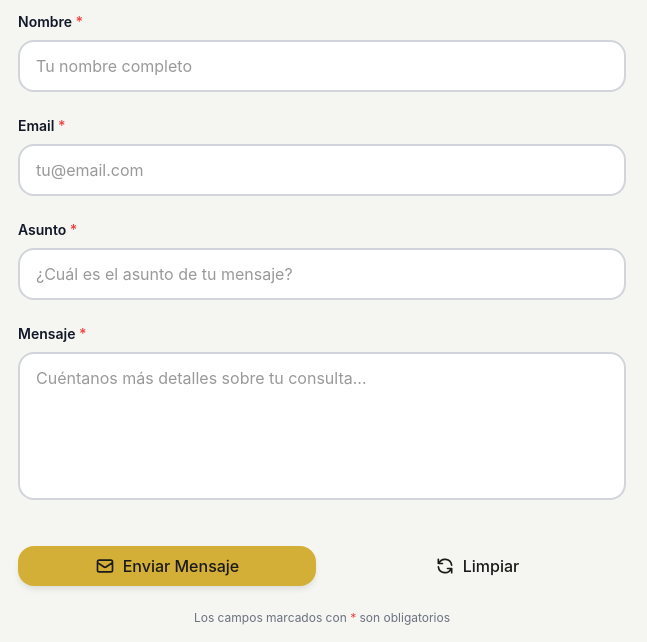
ContactForm Component › clears form when reset button is clicked
Type "John Doe" into the field labelled "Nombre *" at [322, 66], box 18,40 -> 626,92
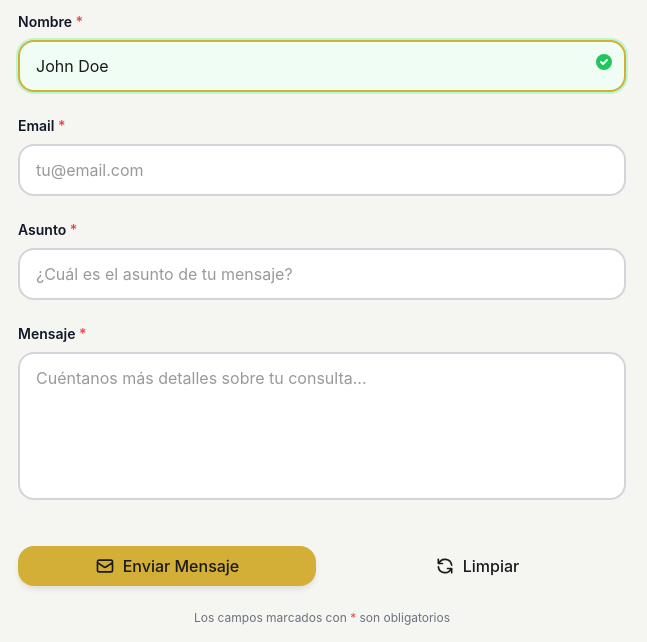
Type "john@example.com" into the field labelled "Email *" at [322, 170], box 18,144 -> 626,196
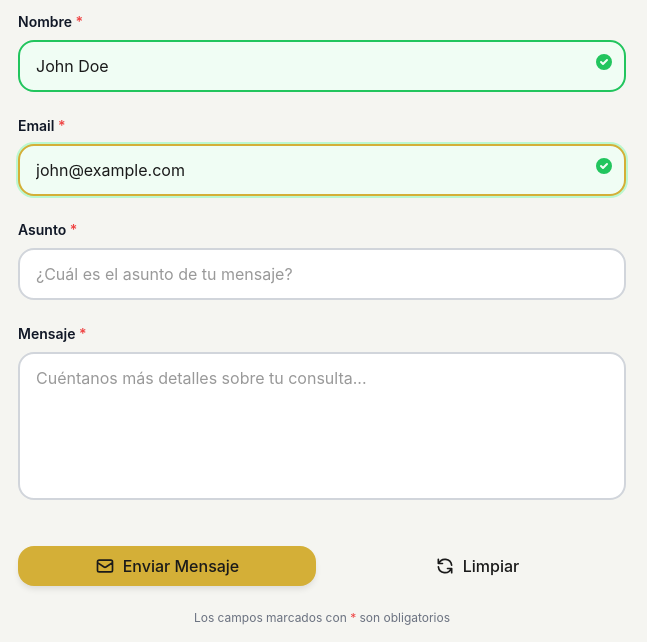
Click the button "Limpiar" at [477, 566], box 328,546 -> 626,586
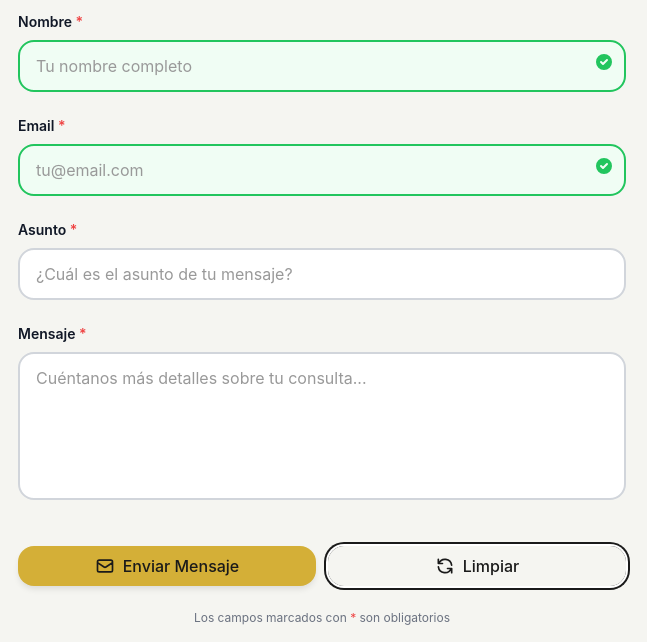
Now the field labelled "Nombre *" is empty, box 18,40 -> 626,92
Now the field labelled "Email *" is empty, box 18,144 -> 626,196
